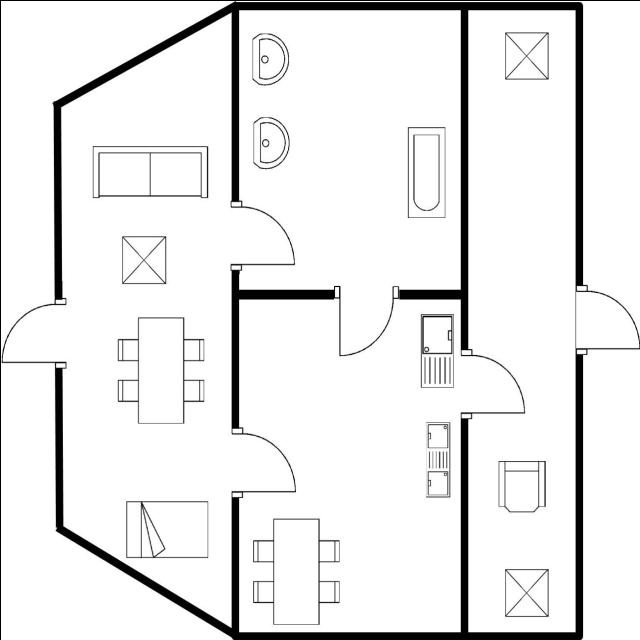armchair: (494, 454, 548, 516)
bed: (122, 494, 212, 562)
coffee_table: (498, 27, 554, 84), (117, 230, 172, 288), (499, 563, 551, 621)
dining_table: (113, 312, 209, 430), (248, 514, 344, 628)
large_sofa: (90, 140, 214, 202)
sink: (416, 310, 458, 392)
small_sink: (249, 112, 296, 174), (248, 30, 294, 91)
tub: (402, 120, 452, 222)
twin_sink: (421, 416, 455, 501)
